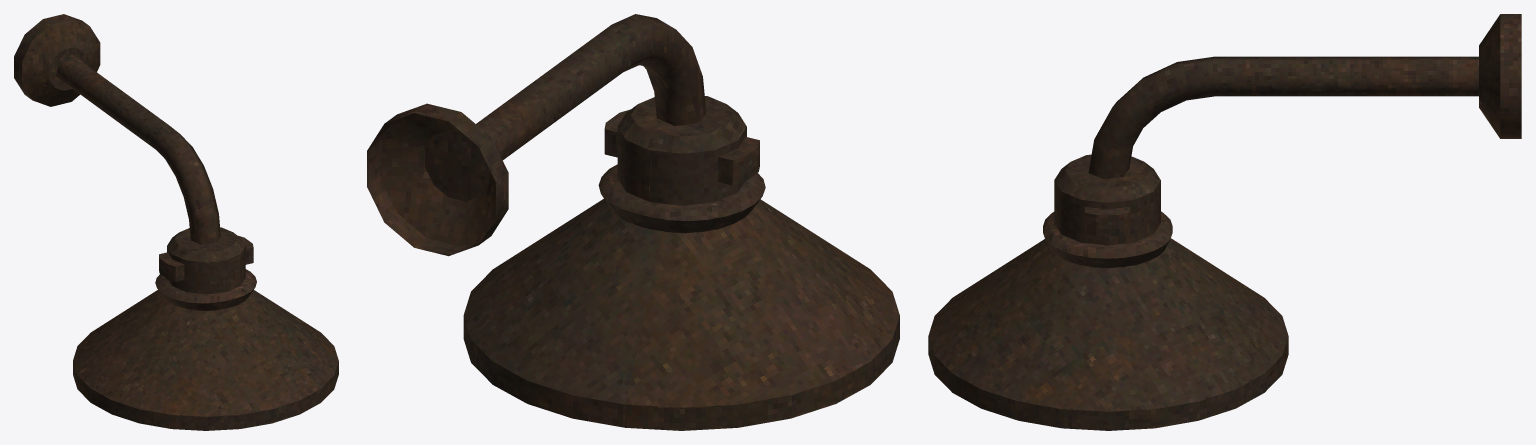
File: lamp_mx_4_on.glb
The picture shows the model from 3 angles, left to right: view 1: azimuth 30°, elevation 25°; view 2: azimuth 150°, elevation 25°; view 3: azimuth 270°, elevation 25°; orthographic projection. The views are drawn at different scales.
Visible parts, largest first — view 1: lamp_mx_4_on; view 2: lamp_mx_4_on; view 3: lamp_mx_4_on.
Part boxes in pixels (box(x1,y1,x2,y2)): lamp_mx_4_on: box(14, 14, 338, 430); lamp_mx_4_on: box(367, 14, 899, 430); lamp_mx_4_on: box(928, 14, 1521, 430).
Size of the model in its own units: 0.51 by 0.5559 by 0.84.
Materials: 2 (2 with a texture image).
